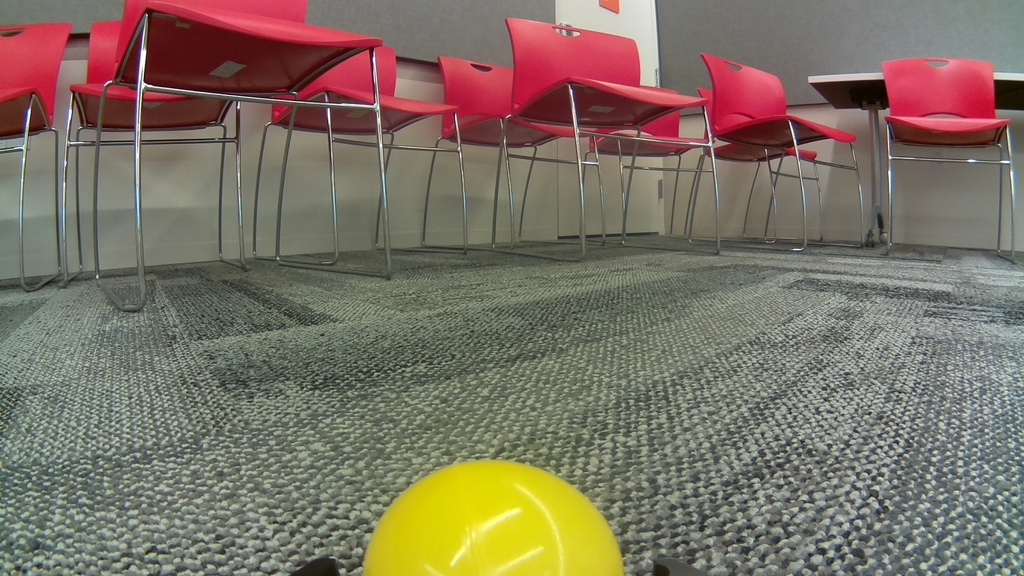ball: (364, 460, 625, 576)
